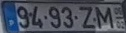3: (60, 5, 74, 29)
4: (29, 5, 44, 30)
9: (15, 4, 30, 28), (47, 5, 61, 28)
M: (94, 6, 114, 29)
Z: (77, 5, 96, 29)
